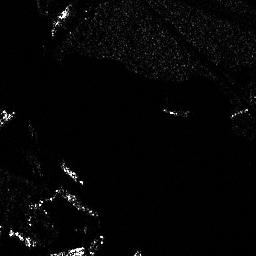ship: (51, 3, 71, 34), (60, 163, 86, 186)
